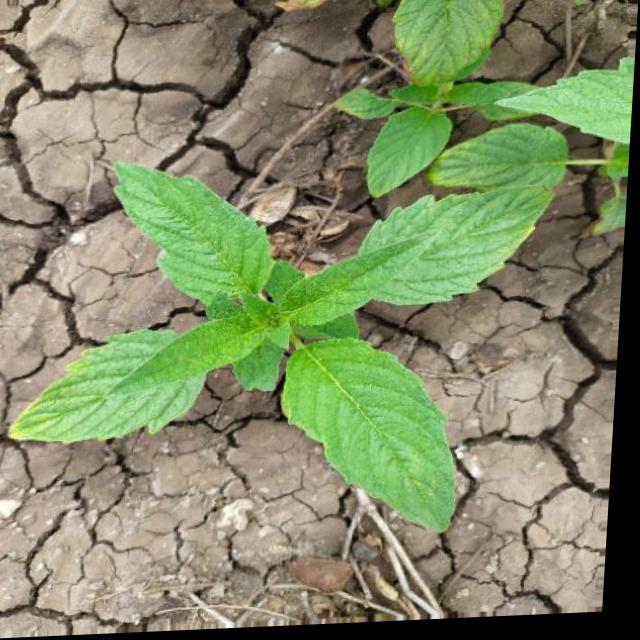crop: (20, 146, 541, 553)
